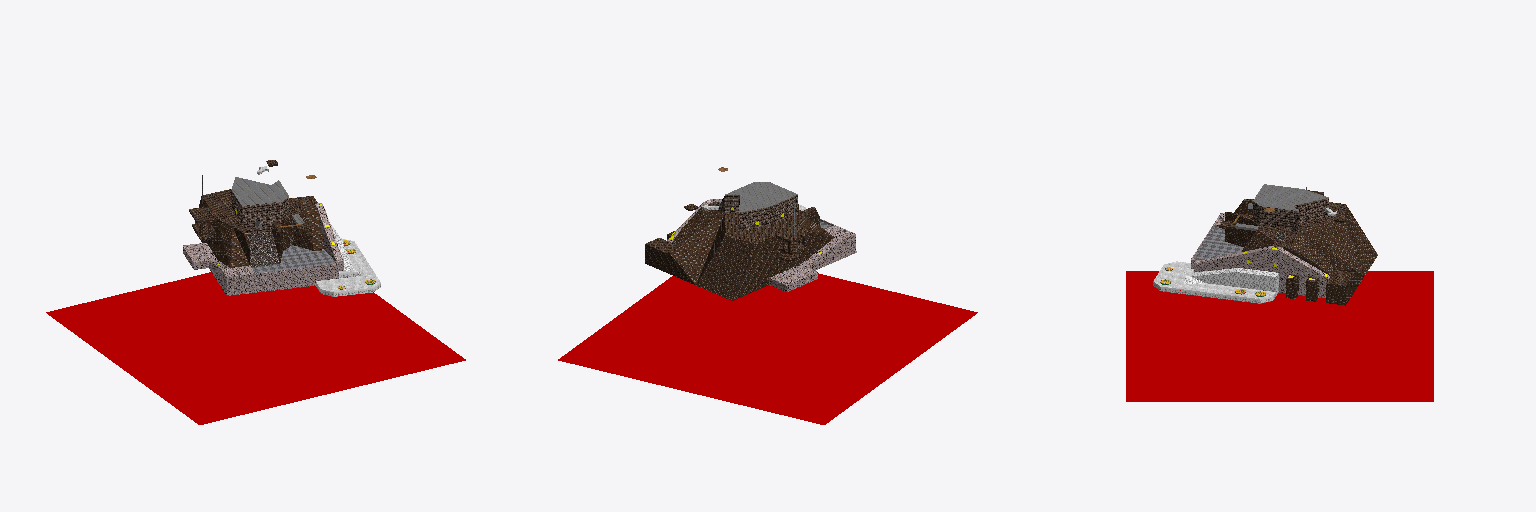
3 views of the same model, side by side, from view 1: azimuth 30°, elevation 25°; view 2: azimuth 150°, elevation 25°; view 3: azimuth 270°, elevation 25° (orthographic).
Parts seen in each view (by area): view 1: Plane, 017_30E48A81_c.bmp, 012_2C725067_c.bmp, 016_29730C45_c.bmp, 011_59A41B70_c.bmp, 014_710C9EF6_c.bmp, 010_53DCECCE_c.bmp, 013_2CF33CF6_c.bmp, 057_30E48A81_c.bmp, 046_29F6A68D_c.bmp; view 2: Plane, 012_2C725067_c.bmp, 057_30E48A81_c.bmp, 011_59A41B70_c.bmp, 016_29730C45_c.bmp, 014_710C9EF6_c.bmp, 017_30E48A81_c.bmp; view 3: Plane, 012_2C725067_c.bmp, 017_30E48A81_c.bmp, 016_29730C45_c.bmp, 011_59A41B70_c.bmp, 009_4D3B21B2_c.bmp, 014_710C9EF6_c.bmp, 010_53DCECCE_c.bmp, 051_29F6A68D_c.bmp, 046_29F6A68D_c.bmp.
Part boxes in pixels (left/top/right/bottom): Plane: left=46, top=272, right=465, bottom=424; 017_30E48A81_c.bmp: left=221, top=203, right=343, bottom=295; 012_2C725067_c.bmp: left=193, top=196, right=324, bottom=267; 016_29730C45_c.bmp: left=231, top=190, right=289, bottom=233; 011_59A41B70_c.bmp: left=203, top=189, right=317, bottom=233; 014_710C9EF6_c.bmp: left=231, top=177, right=288, bottom=274; 010_53DCECCE_c.bmp: left=251, top=245, right=334, bottom=272; 013_2CF33CF6_c.bmp: left=248, top=231, right=279, bottom=266; 057_30E48A81_c.bmp: left=183, top=243, right=229, bottom=285; 046_29F6A68D_c.bmp: left=316, top=274, right=380, bottom=291; Plane: left=558, top=273, right=977, bottom=424; 012_2C725067_c.bmp: left=645, top=208, right=834, bottom=300; 057_30E48A81_c.bmp: left=769, top=238, right=841, bottom=291; 011_59A41B70_c.bmp: left=646, top=201, right=814, bottom=253; 016_29730C45_c.bmp: left=718, top=195, right=797, bottom=230; 014_710C9EF6_c.bmp: left=725, top=182, right=845, bottom=231; 017_30E48A81_c.bmp: left=704, top=199, right=856, bottom=258; Plane: left=1126, top=271, right=1433, bottom=401; 012_2C725067_c.bmp: left=1225, top=200, right=1377, bottom=305; 017_30E48A81_c.bmp: left=1191, top=213, right=1327, bottom=297; 016_29730C45_c.bmp: left=1253, top=198, right=1328, bottom=233; 011_59A41B70_c.bmp: left=1235, top=199, right=1354, bottom=285; 009_4D3B21B2_c.bmp: left=1192, top=268, right=1278, bottom=295; 014_710C9EF6_c.bmp: left=1219, top=184, right=1328, bottom=218; 010_53DCECCE_c.bmp: left=1194, top=227, right=1243, bottom=260; 051_29F6A68D_c.bmp: left=1181, top=283, right=1275, bottom=298; 046_29F6A68D_c.bmp: left=1154, top=261, right=1190, bottom=288.
Size of the model in its own units: 15.26 by 8.78 by 15.26.
49 materials, 15 textured.